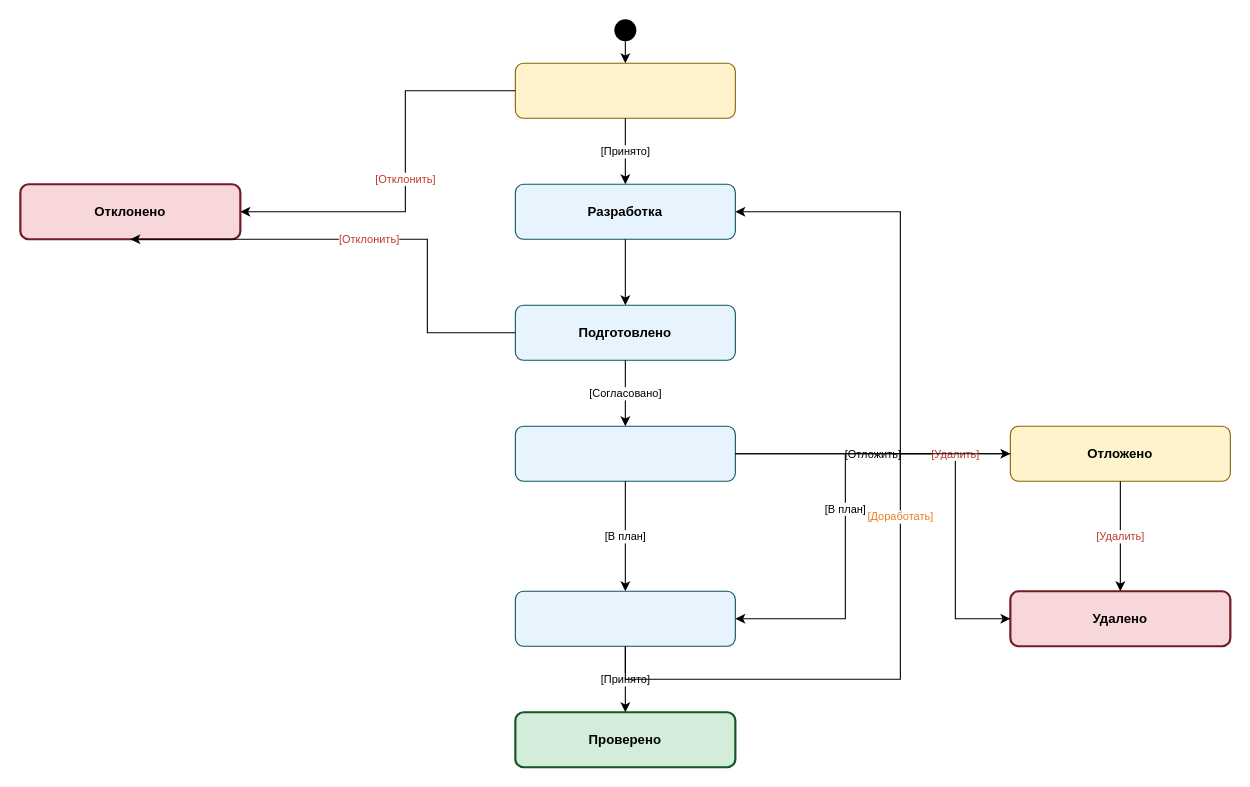
Image size: 1250x787. Some labels were removed from this diagram. The shapes that lost their labels are listed below. From the top down, each one's centre as x and y in pixels, then its label:
At (624,90): "Предложено".
At (624,453): "Одобрено".
At (624,618): "Реализовано".
